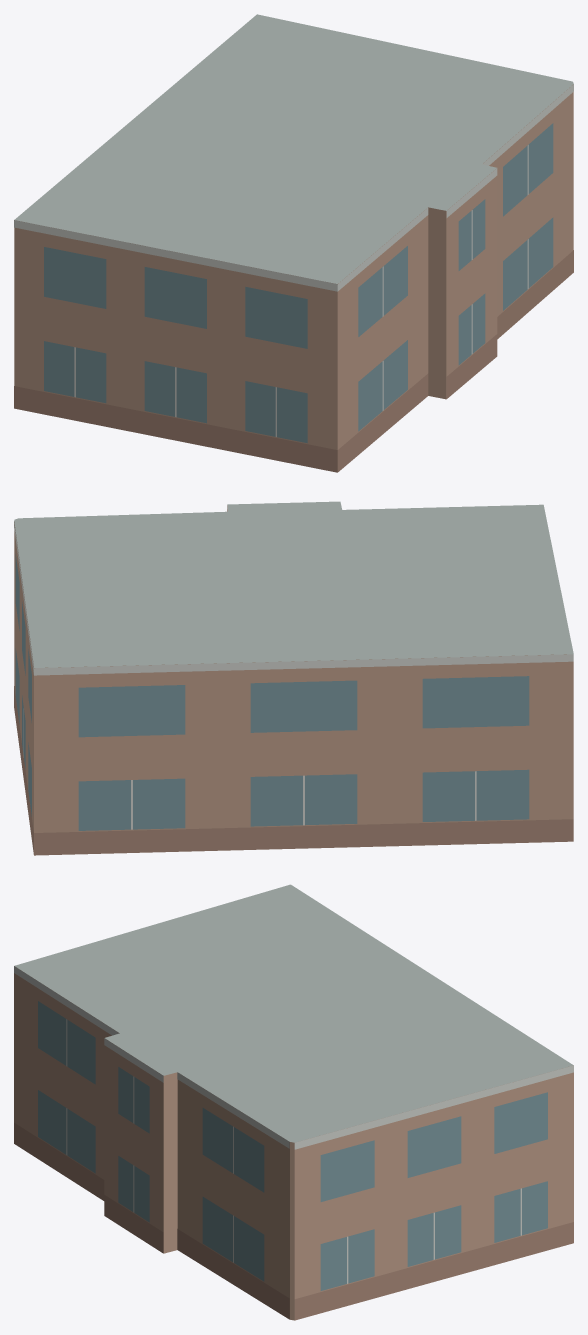
The model's file is survey-upis-32624865.glb.
The picture shows the model from 3 angles, top to bottom: view 1: azimuth 30°, elevation 25°; view 2: azimuth 150°, elevation 25°; view 3: azimuth 270°, elevation 25°; orthographic projection. The views are drawn at different scales.
Visible parts, largest first — view 1: survey-upis-32624865.tmp; view 2: survey-upis-32624865.tmp; view 3: survey-upis-32624865.tmp.
Part boxes in pixels (x1=…): survey-upis-32624865.tmp: x1=14, y1=14, x2=573, y2=472; survey-upis-32624865.tmp: x1=14, y1=501, x2=573, y2=855; survey-upis-32624865.tmp: x1=14, y1=884, x2=573, y2=1320.
Bounding box in the file's own units: 19.01 × 6.1 × 17.41.
